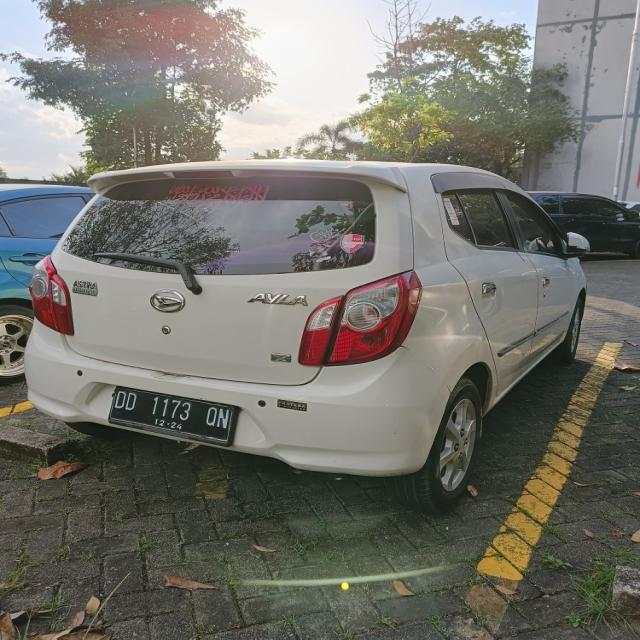plates: (98, 376, 254, 456)
